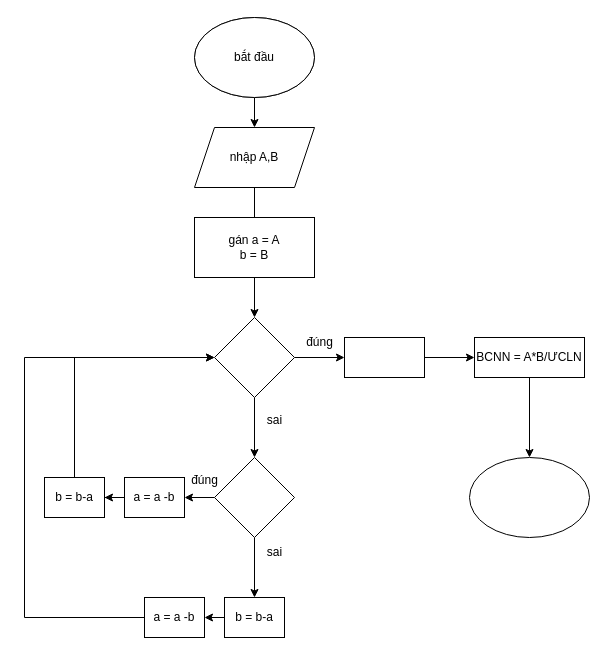
The diagram is 607 pixels wide and 655 high, and some of its shapes have lost their labels. Each missing label, with the centre of its shape:
"a=b" goes at (x=254, y=357).
"a>b" goes at (x=254, y=497).
"kết thúc" goes at (x=529, y=497).
"ƯCLN = a = b" goes at (x=384, y=357).
